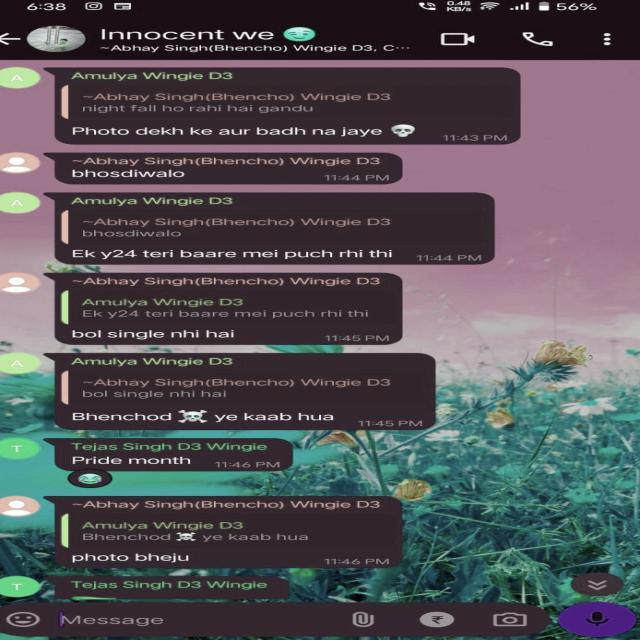scam: (68, 406, 346, 433), (68, 123, 424, 142), (67, 246, 406, 262), (67, 326, 264, 344), (63, 551, 220, 569), (66, 452, 200, 470), (70, 166, 208, 182)
